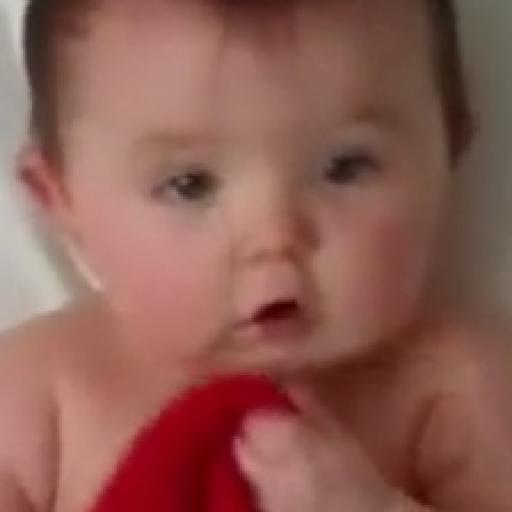Autism: (22, 3, 486, 374)
